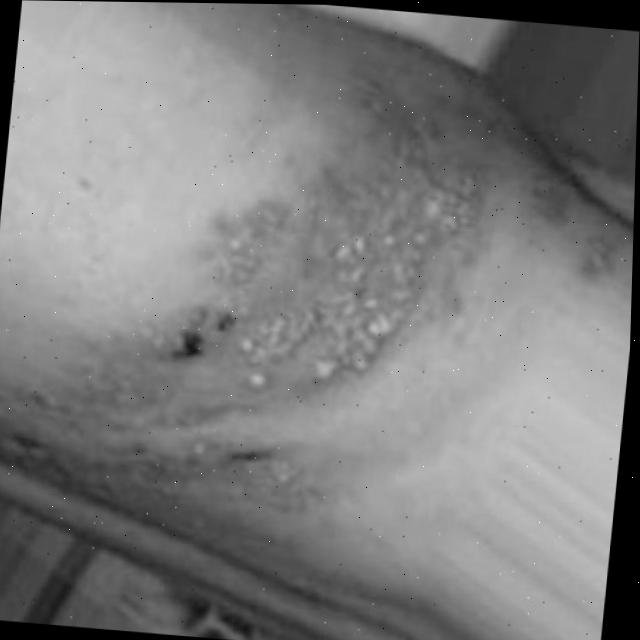Shingles: (52, 133, 495, 535)
